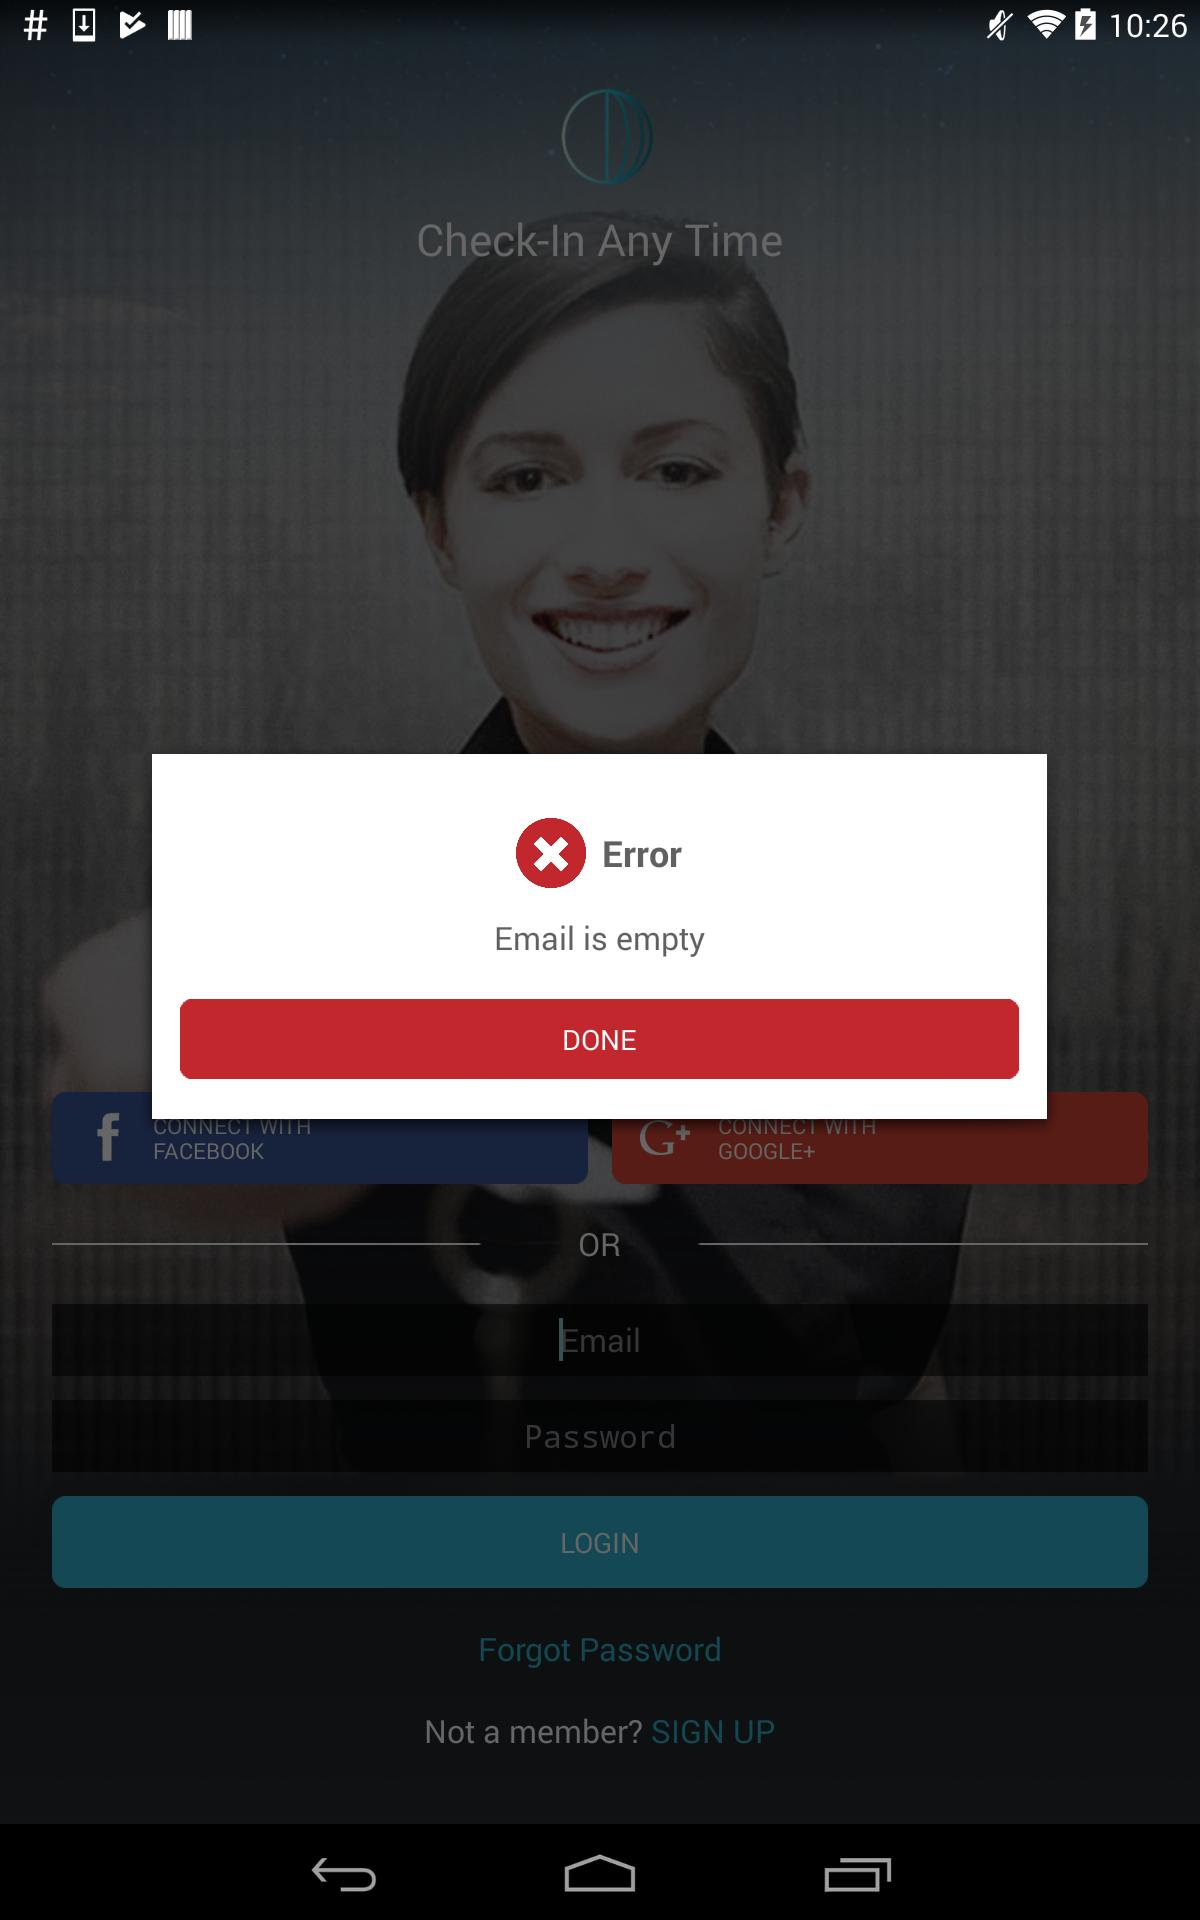android.widget.Button: (180, 999, 1019, 1080)
android.widget.FrameLayout: (120, 738, 1078, 1135), (135, 738, 1063, 1135), (152, 753, 1047, 1120)
android.widget.ImageView: (516, 818, 586, 887)
android.widget.LinearLayout: (135, 738, 1063, 1135), (152, 753, 1047, 1120), (180, 818, 1019, 887)
android.widget.TextView: (180, 916, 1019, 959), (601, 828, 682, 876)
